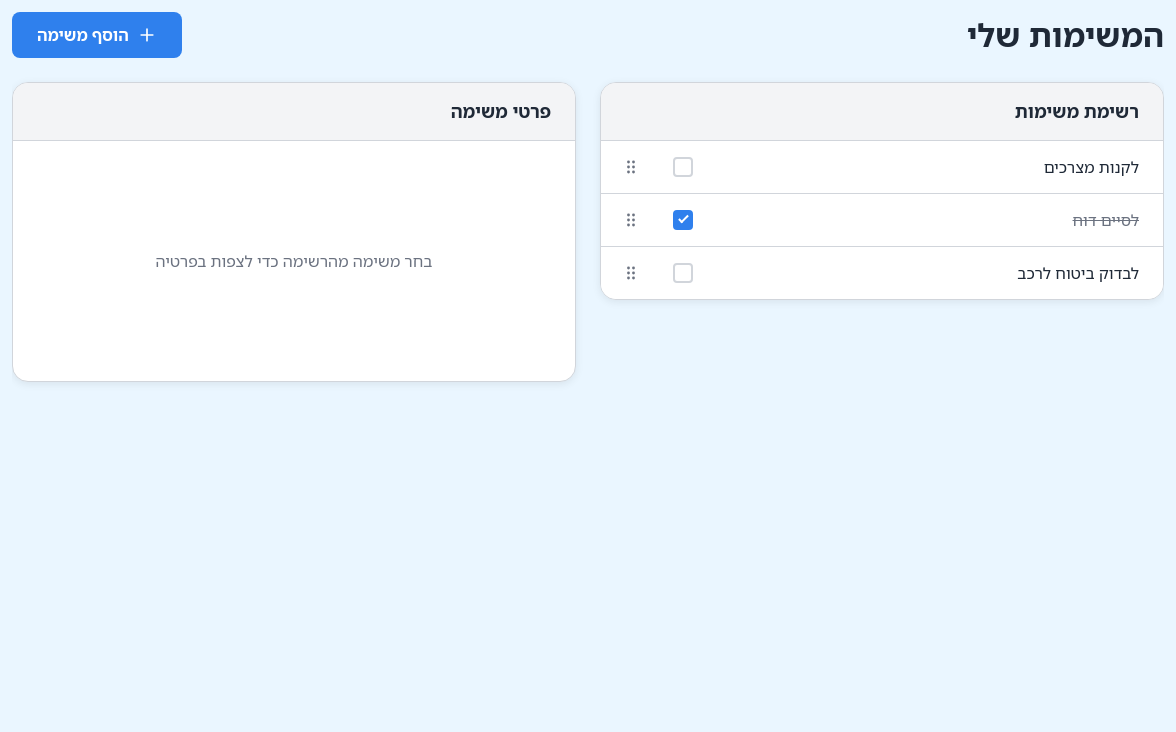
it: HomePage › shows the selected task details
The image size is (1176, 732).
Click the button "לקנות מצרכים" at coordinates (1091, 167), box [713,141,1163,193]
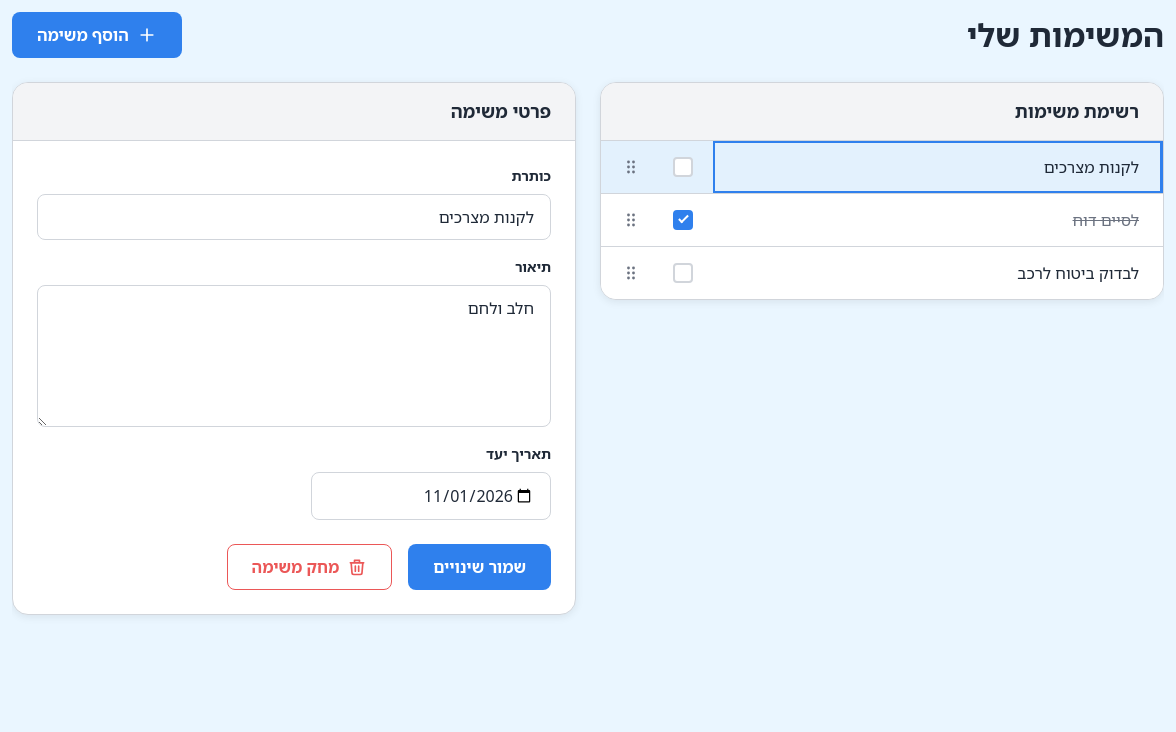
Check: the field labelled "כותרת" holds "לקנות מצרכים", box [37,194,551,240]
Check: the text box labelled "תיאור" holds "חלב ולחם", box [37,285,551,427]
Check: the date field labelled "תאריך יעד" holds "2026-11-01", box [311,472,551,520]
